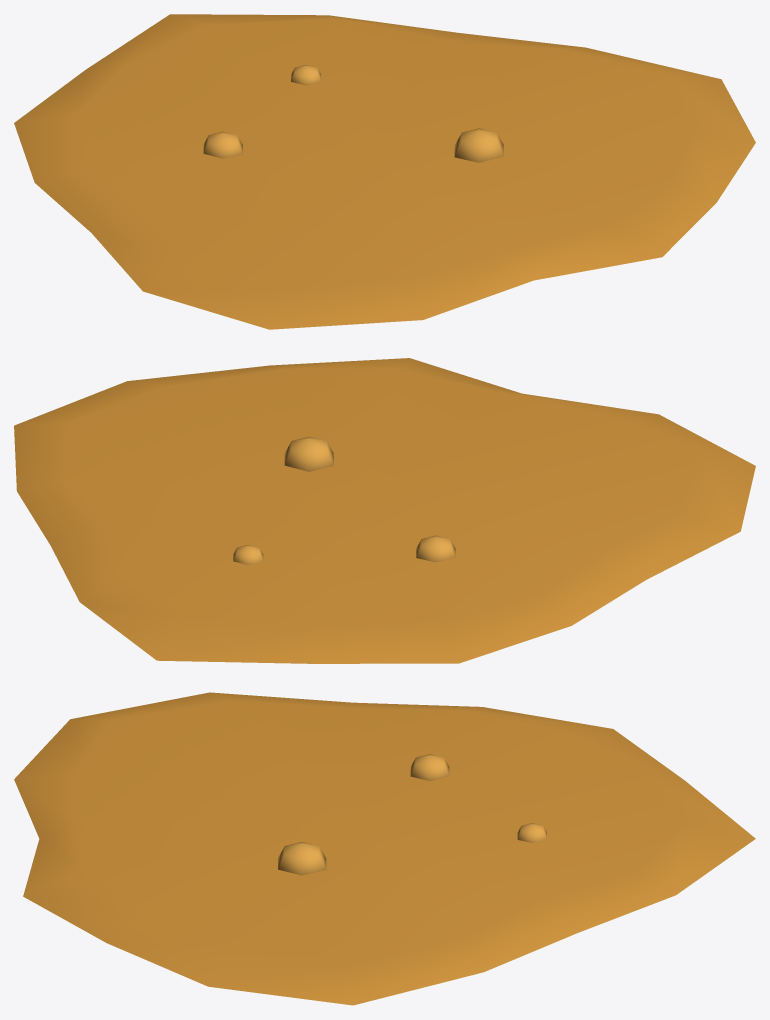
The model's file is consumable_resin.glb.
3 views of the same model, one above another, from view 1: azimuth 30°, elevation 25°; view 2: azimuth 150°, elevation 25°; view 3: azimuth 270°, elevation 25° (orthographic).
Parts seen in each view (by area): view 1: resin; view 2: resin; view 3: resin.
Boxes of the visible parts, <box> form: resin: <box>14,14,755,329</box>; resin: <box>14,358,755,663</box>; resin: <box>14,692,755,1005</box>.
Bounding box in the file's own units: 0.2895 × 0.014 × 0.2899.
